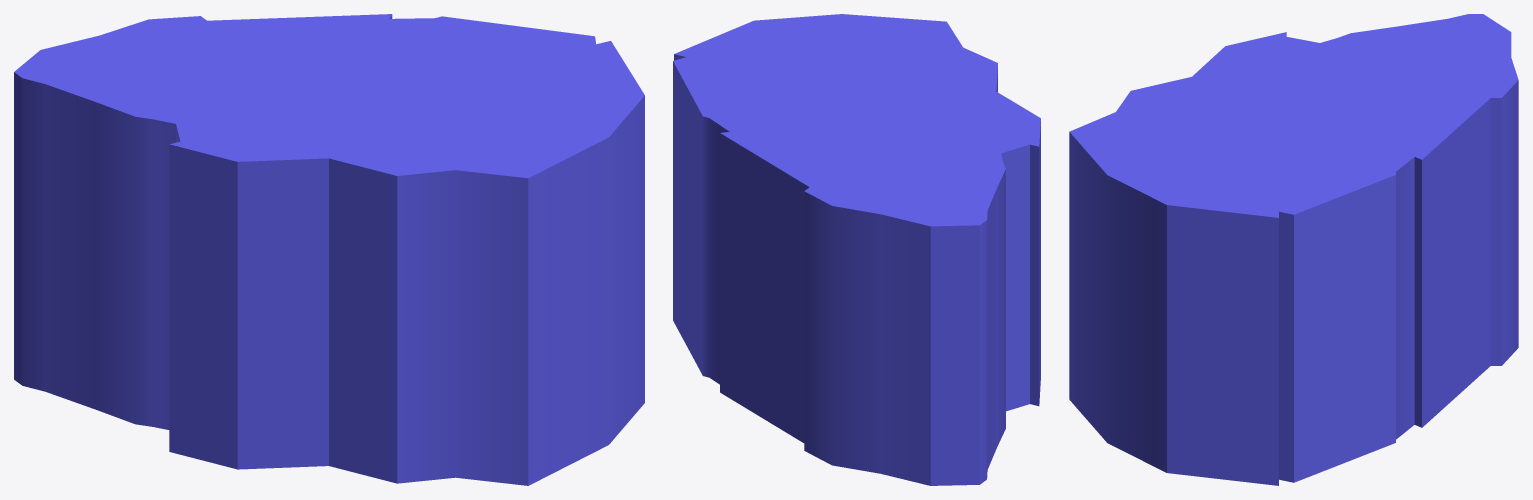
The model's file is original-12.obj.
3 renders of one model, left to right at view 1: azimuth 30°, elevation 25°; view 2: azimuth 150°, elevation 25°; view 3: azimuth 270°, elevation 25°, orthographic. The views are drawn at different scales.
Parts seen in each view (by area): view 1: mesh11/mesh11-geometry#mesh11-geometry; view 2: mesh11/mesh11-geometry#mesh11-geometry; view 3: mesh11/mesh11-geometry#mesh11-geometry.
Boxes of the visible parts, x1=… form: mesh11/mesh11-geometry#mesh11-geometry: x1=14, y1=14, x2=644, y2=485; mesh11/mesh11-geometry#mesh11-geometry: x1=673, y1=14, x2=1040, y2=485; mesh11/mesh11-geometry#mesh11-geometry: x1=1069, y1=14, x2=1518, y2=485.
Size of the model in its own units: 0.0166 by 0.0102 by 0.0155.
